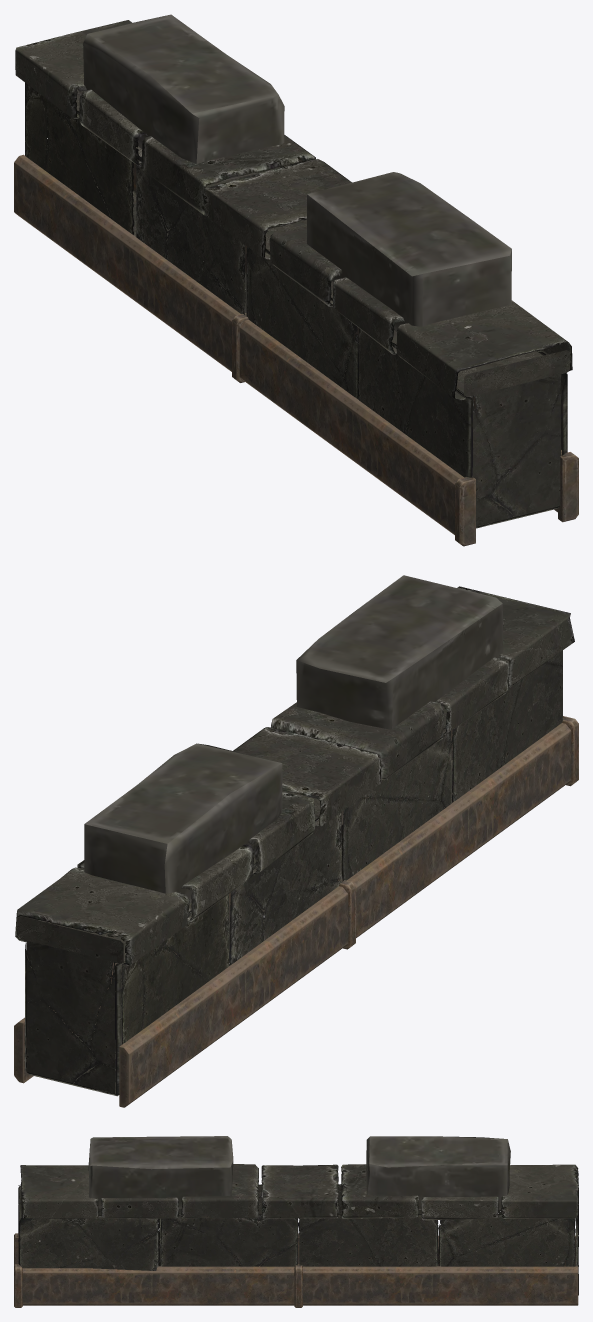
3 views of the same model, one above another, from view 1: azimuth 30°, elevation 25°; view 2: azimuth 150°, elevation 25°; view 3: azimuth 270°, elevation 25° (orthographic). The views are drawn at different scales.
Parts seen in each view (by area): view 1: SM_Greathall_Wall_Top_8x2_01_LOD0; view 2: SM_Greathall_Wall_Top_8x2_01_LOD0; view 3: SM_Greathall_Wall_Top_8x2_01_LOD0.
Boxes of the visible parts, box(x1,y1,x2,y2) form: SM_Greathall_Wall_Top_8x2_01_LOD0: box(14, 14, 578, 546); SM_Greathall_Wall_Top_8x2_01_LOD0: box(14, 575, 578, 1107); SM_Greathall_Wall_Top_8x2_01_LOD0: box(14, 1136, 578, 1307).
Size of the model in its own units: 1.25 by 2.28 by 8.06.
Materials: 4 (4 with a texture image).
